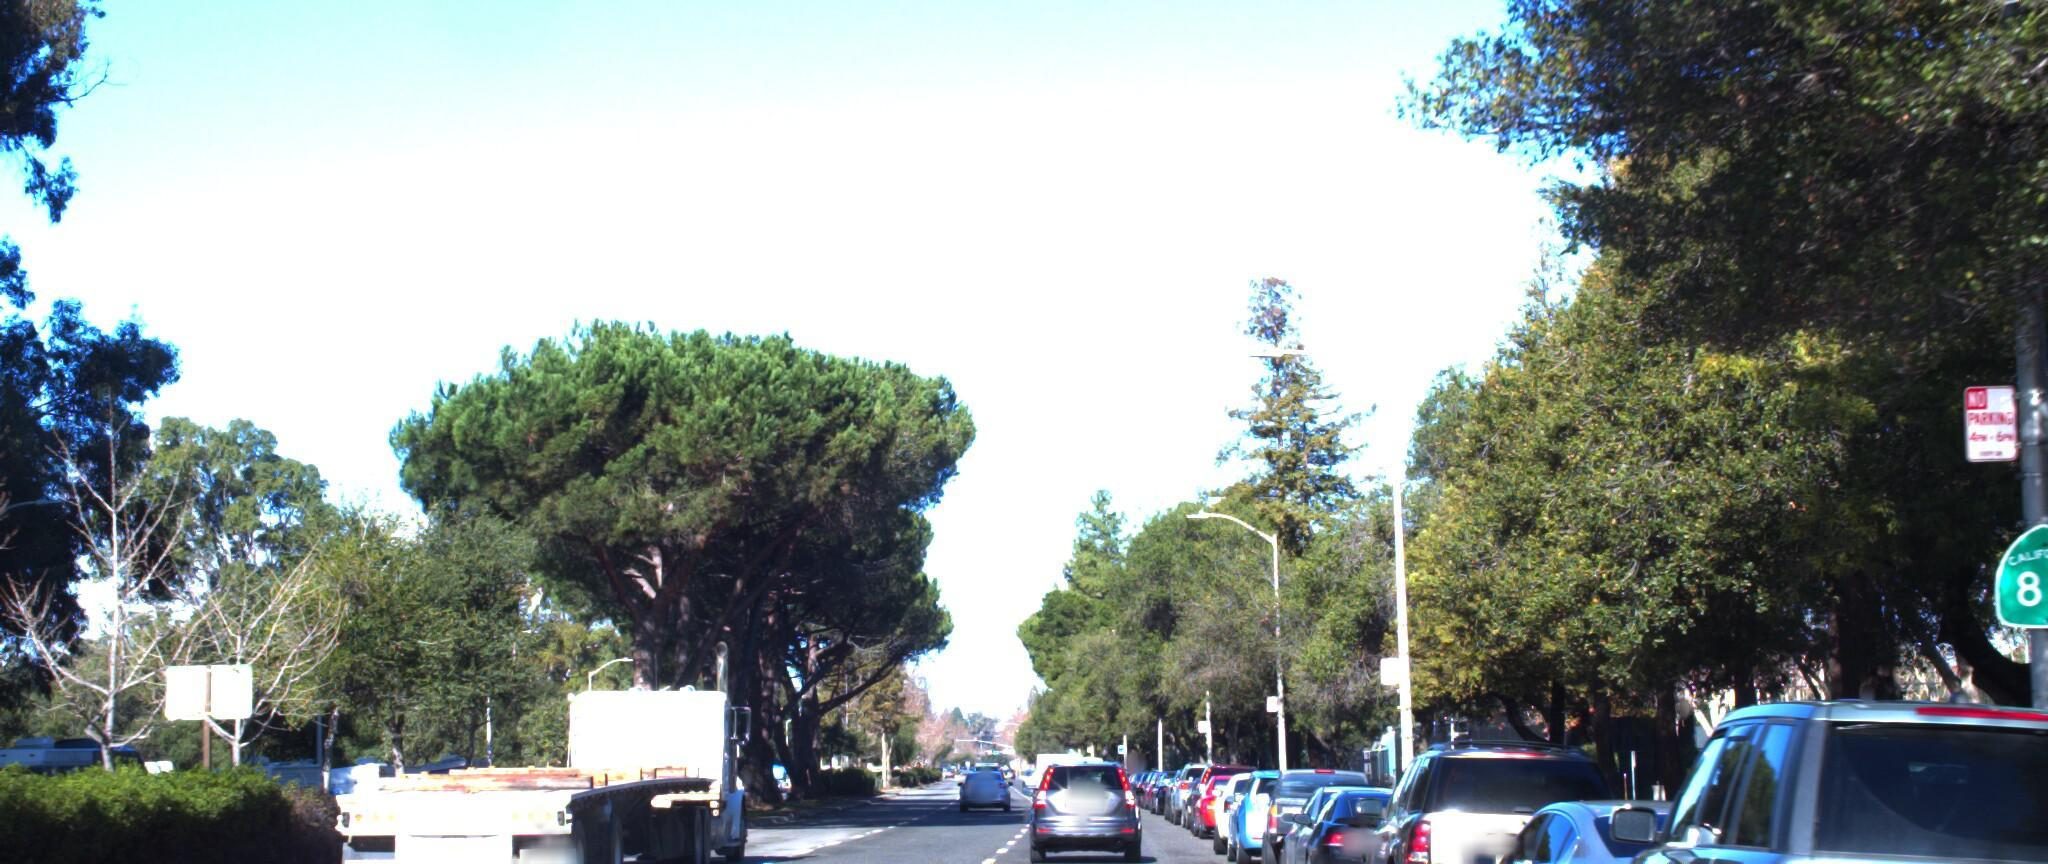car: (1573, 662, 2048, 864), (1339, 719, 1655, 864), (1426, 773, 1889, 864), (1287, 771, 1505, 864), (1272, 767, 1445, 864), (1015, 741, 1144, 864), (1256, 749, 1394, 864), (1219, 752, 1351, 863)
other_vehicle: (0, 722, 153, 864)
truck: (321, 578, 782, 864)
